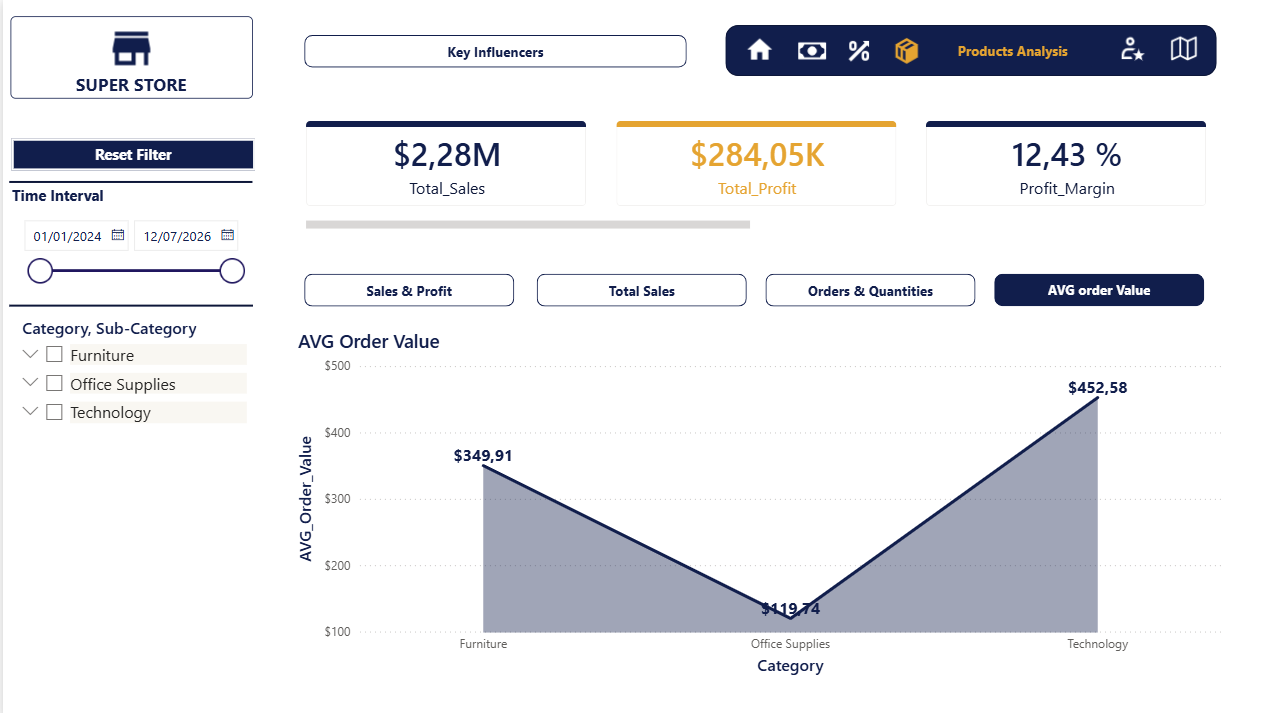

This screenshot's page, from the dashboard's own definition file:
{"tool":"powerbi","page":{"name":"Products Analysis","canvas":[1280,720],"ordinal":4},"visuals":[{"type":"shape","box":[722.8,24.8,491.1,51.1],"z":0},{"type":"actionButton","title":"Select Time Period","box":[5.4,175.4,243.6,38.6],"z":0,"group":"g1"},{"type":"shape","title":"Up line (time interval)","box":[5.6,300,243.8,11.2],"z":1000},{"type":"actionButton","box":[926.8,33,167.1,35],"z":2000},{"type":"actionButton","box":[733.1,27.9,46.7,44.4],"z":3000},{"type":"actionButton","title":"Sales Button","box":[785.9,28.6,46.2,44.4],"z":4000},{"type":"actionButton","title":"Key influencers","box":[301.2,35,382.5,32.5],"z":4000,"group":"g4"},{"type":"keyDriversVisual","fields":{"ExplainBy":["Fact_Superstore_Orders.Category","Fact_Superstore_Orders.Sub-Category","Dim_Date.Full Date.Variation.Hiérarchie de dates.Année","Dim_Date.Full Date.Variation.Hiérarchie de dates.Trimestre","Dim_Date.Full Date.Variation.Hiérarchie de dates.Mois","Dim_Date.Full Date.Variation.Hiérarchie de dates.Jour"],"Target":["Measurements.Total_Sales"]},"box":[290,98,954,584],"z":4000,"group":"g2"},{"type":"actionButton","title":"Profit Button","box":[832.3,28.5,47.4,44.2],"z":5000},{"type":"actionButton","box":[879.6,28.7,47.1,44.3],"z":6000},{"type":"actionButton","box":[1105.4,28,46.3,43.7],"z":7000},{"type":"actionButton","box":[1157.5,28,46.3,43.7],"z":8000},{"type":"actionButton","box":[8,16,242,82],"z":9000},{"type":"slicer","fields":{"Values":["Fact_Superstore_Orders.Category Hiérarchie.Category","Fact_Superstore_Orders.Category Hiérarchie.Sub-Category"]},"box":[6.2,311.2,242.5,370],"z":11000},{"type":"group","id":"g1","title":"Show time interval","box":[5.4,175.4,243.6,38.6],"z":12000},{"type":"slicer","title":"Time interval","fields":{"Values":["Dim_Date.Full Date"]},"box":[8.2,210,242.7,85.5],"z":13000},{"type":"shape","title":"Up line (time interval)","box":[5.7,175.7,243.6,11.4],"z":14000},{"type":"group","id":"g2","title":"VISUALS","box":[290,98,954,584],"z":15000},{"type":"group","id":"g3","title":"OFF BUTTONS","box":[301.2,35,900.2,271.9],"z":16000},{"type":"group","id":"g4","title":"ON BUTTONS","box":[301.2,35,900,271.2],"z":17000},{"type":"actionButton","title":"Full time period button","box":[8.3,138.3,243.3,31.7],"z":18000}]}

Visuals, with their boxes in screenshot pixels (x1, y1, x2, y2), scaled from the page's 1280x720 canvas onto the 1273x713 screenshot:
shape: bbox=[719, 25, 1207, 75]
"Select Time Period" actionButton: bbox=[5, 174, 248, 212]
"Up line (time interval)" shape: bbox=[6, 297, 248, 308]
actionButton: bbox=[922, 33, 1088, 67]
actionButton: bbox=[729, 28, 776, 72]
"Sales Button" actionButton: bbox=[782, 28, 828, 72]
"Key influencers" actionButton: bbox=[300, 35, 680, 67]
keyDriversVisual - Fact_Superstore_Orders.Category x Fact_Superstore_Orders.Sub-Category: bbox=[288, 97, 1237, 675]
"Profit Button" actionButton: bbox=[828, 28, 875, 72]
actionButton: bbox=[875, 28, 922, 72]
actionButton: bbox=[1099, 28, 1145, 71]
actionButton: bbox=[1151, 28, 1197, 71]
actionButton: bbox=[8, 16, 249, 97]
slicer - Fact_Superstore_Orders.Category Hiérarchie.Category x Fact_Superstore_Orders.Category Hiérarchie.Sub-Category: bbox=[6, 308, 247, 675]
"Show time interval" group: bbox=[5, 174, 248, 212]
"Time interval" slicer: bbox=[8, 208, 250, 293]
"Up line (time interval)" shape: bbox=[6, 174, 248, 185]
"VISUALS" group: bbox=[288, 97, 1237, 675]
"OFF BUTTONS" group: bbox=[300, 35, 1195, 304]
"ON BUTTONS" group: bbox=[300, 35, 1195, 303]
"Full time period button" actionButton: bbox=[8, 137, 250, 168]
